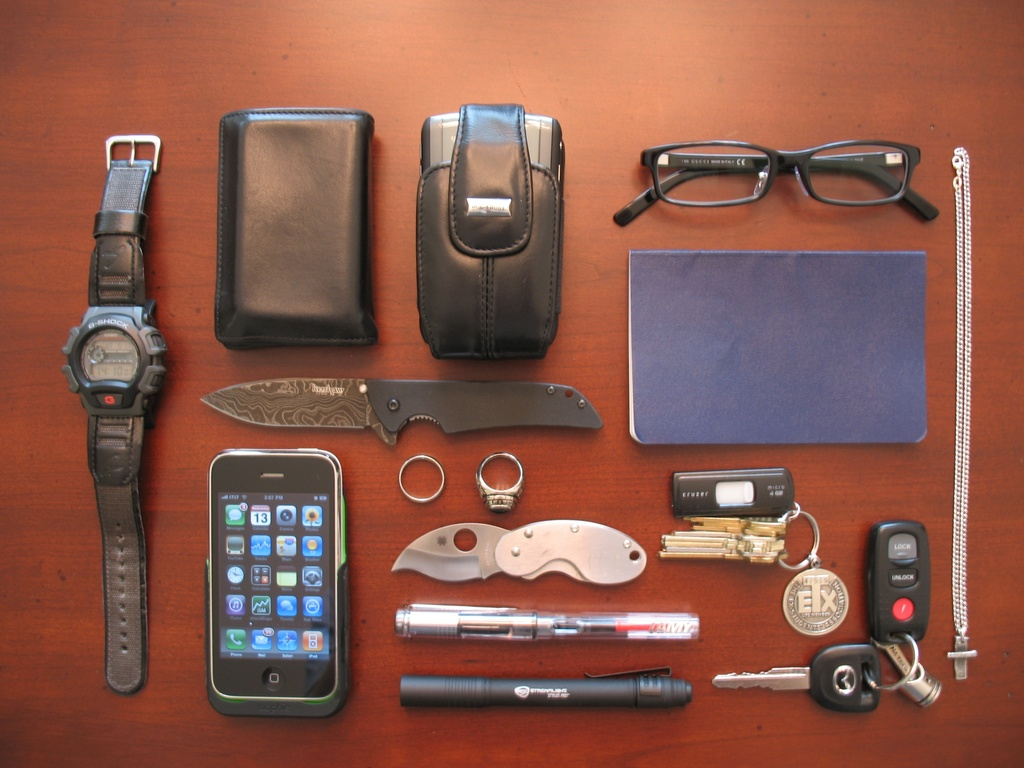Mobile-phone: (204, 445, 351, 719)
